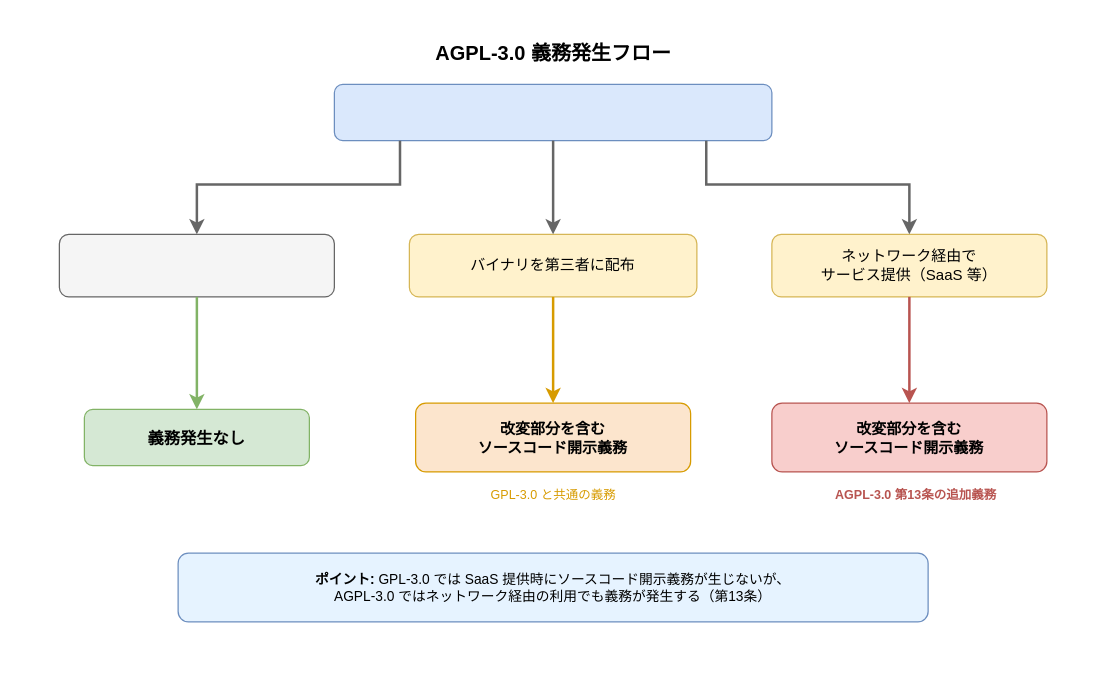
Some shapes in this 1105 by 693 pixel diagram are drawn without their labels. Each missing label, with the centre of its shape:
AGPL-3.0 ソフトウェアを利用: point (552, 112)
個人・社内利用のみ （配布・公開なし）: point (196, 265)
